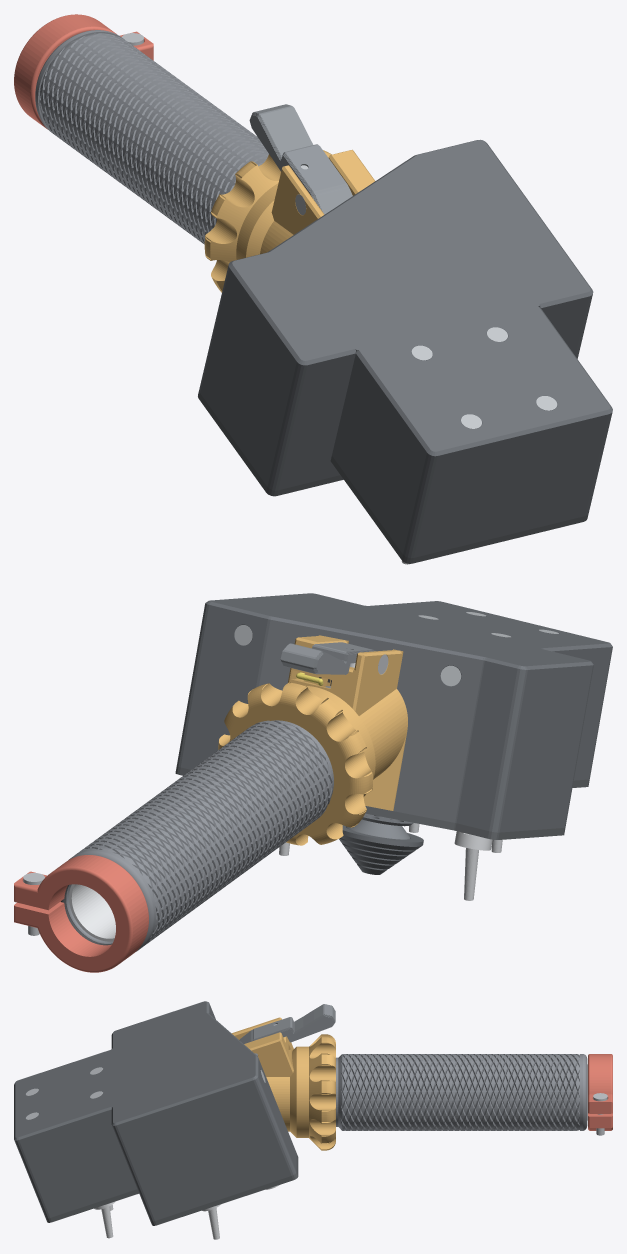
File: HueyHeadR3_Assembly.glb
The picture shows the model from 3 angles, top to bottom: view 1: azimuth 30°, elevation 25°; view 2: azimuth 150°, elevation 25°; view 3: azimuth 270°, elevation 25°; orthographic projection. The views are drawn at different scales.
Visible parts, largest first — view 1: Body, Throttle grip, Neck block, Trigger, Friction collar, Upper panel, Lower panel, HeliSR screws M3 x 12; view 2: Body, Throttle grip, Neck block, Friction collar, Search hat, Trigger, Tube, Lower panel, Lower toggles and STOP REL, MkII 4-way hat (approx.), Bottom screws M3 x 12; view 3: Body, Throttle grip, Neck block, Friction collar, Trigger, Lower panel, Upper panel, Upper toggles.
Part boxes in pixels (x1,y1,x2,y2): Body: (199, 139, 612, 557); Throttle grip: (35, 30, 268, 244); Neck block: (204, 149, 374, 292); Trigger: (249, 104, 352, 214); Friction collar: (14, 14, 153, 129); Upper panel: (330, 456, 588, 563); Lower panel: (198, 390, 343, 496); HeliSR screws M3 x 12: (411, 327, 557, 428); Body: (177, 593, 612, 832); Throttle grip: (66, 686, 333, 951); Neck block: (218, 635, 407, 845); Friction collar: (14, 855, 148, 972); Search hat: (339, 825, 423, 874); Trigger: (280, 642, 375, 674); Tube: (69, 884, 115, 941); Lower panel: (175, 766, 565, 839); Lower toggles and STOP REL: (279, 831, 492, 900); MkII 4-way hat (approx.): (346, 813, 413, 839); Bottom screws M3 x 12: (234, 625, 461, 686); Body: (14, 1001, 296, 1221); Throttle grip: (336, 1054, 587, 1130); Neck block: (232, 1017, 335, 1150); Friction collar: (588, 1054, 612, 1130); Trigger: (239, 1004, 335, 1043); Lower panel: (150, 1153, 298, 1225); Upper panel: (45, 1189, 138, 1222); Upper toggles: (94, 1201, 115, 1238).
Size of the model in its own units: 107 by 112 by 288.
